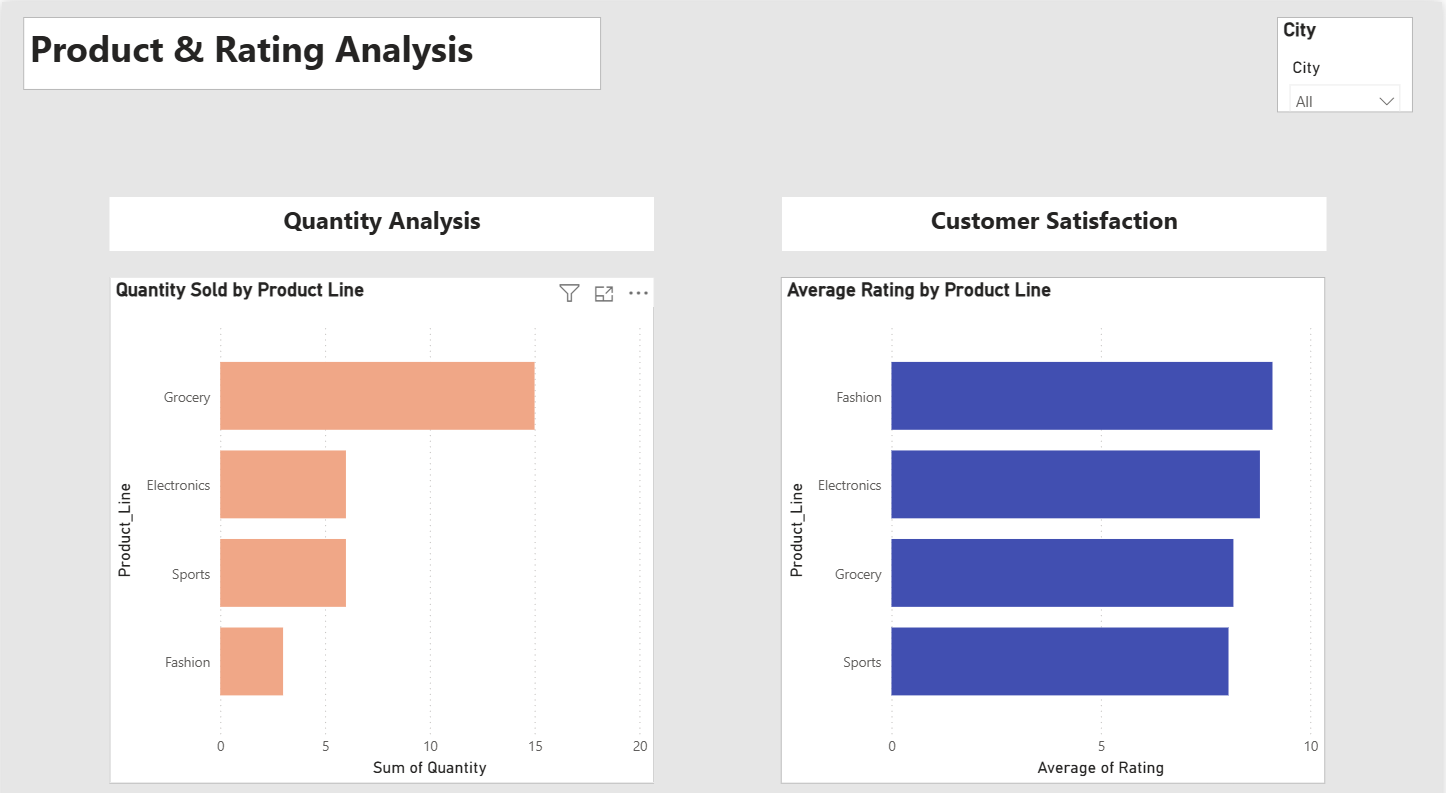

The page's visual inventory and layout, read from the dashboard file:
{"tool":"powerbi","page":{"name":"Page 3","canvas":[1280,720],"ordinal":2},"visuals":[{"type":"slicer","title":"City","fields":{"Values":["supermarket_sales.City"]},"box":[1133.5,13.7,120.8,85.1],"z":0},{"type":"clusteredBarChart","title":"Quantity Sold by Product Line","fields":{"Category":["supermarket_sales.Product_Line"],"Y":["Sum(supermarket_sales.Quantity)"]},"box":[95.5,244.8,484.4,450],"z":1000},{"type":"clusteredBarChart","title":"Average Rating by Product Line","fields":{"Category":["supermarket_sales.Product_Line"],"Y":["Avg(supermarket_sales.Rating)"]},"box":[692.4,244.8,484,450],"z":2000},{"type":"textbox","box":[18.9,13.3,513.3,64.4],"z":3000},{"type":"textbox","box":[96.1,172.9,484.4,48],"z":4000},{"type":"textbox","box":[693,172.9,484.4,48],"z":5000}]}

Visuals, with their boxes in screenshot pixels (x1, y1, x2, y2), scaled from the page's 1280x720 canvas onto the 1446x793 screenshot:
"City" slicer: pyautogui.locateOnScreen(1281, 15, 1417, 109)
"Quantity Sold by Product Line" clusteredBarChart: pyautogui.locateOnScreen(108, 270, 655, 765)
"Average Rating by Product Line" clusteredBarChart: pyautogui.locateOnScreen(782, 270, 1329, 765)
textbox: pyautogui.locateOnScreen(21, 15, 601, 86)
textbox: pyautogui.locateOnScreen(109, 190, 656, 243)
textbox: pyautogui.locateOnScreen(783, 190, 1330, 243)
